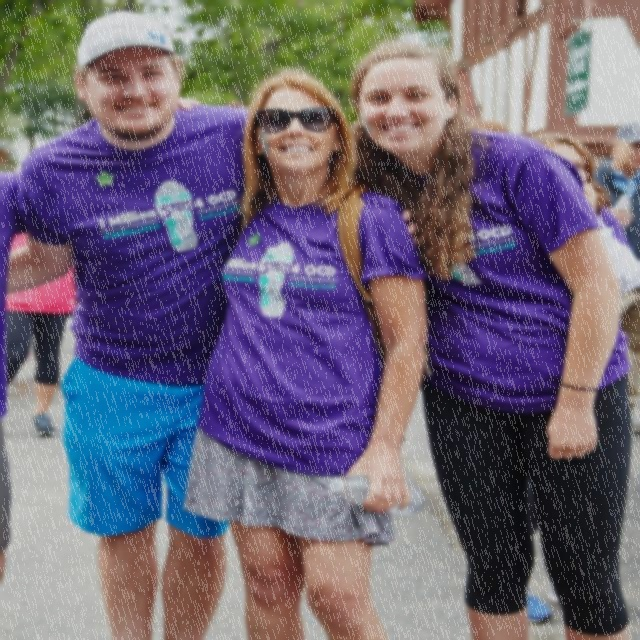pessoa: (348, 40, 638, 640), (2, 8, 256, 640), (171, 62, 431, 639), (520, 132, 640, 324), (0, 146, 47, 593), (587, 120, 640, 433), (4, 230, 81, 437)
